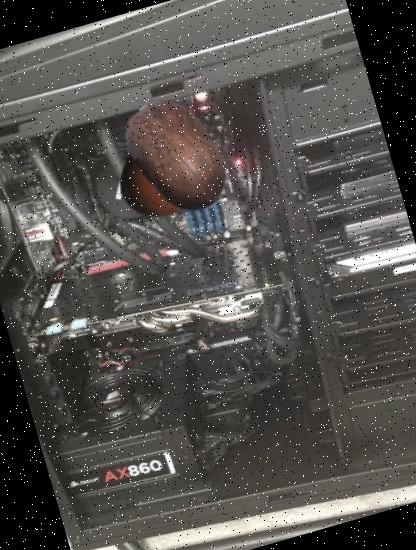Granadilla: (107, 123, 214, 231)
Nut: (102, 80, 254, 231)
